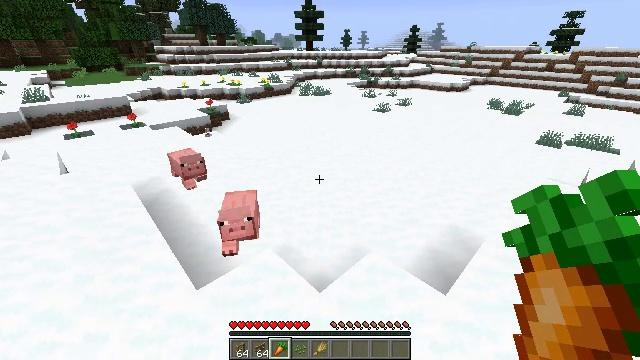pig: (218, 189, 259, 255), (168, 147, 206, 189)
